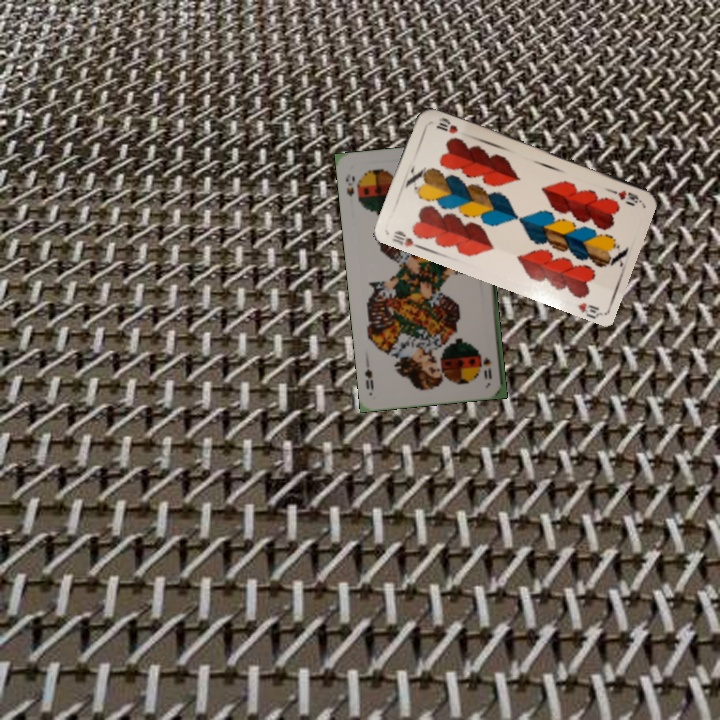H10: (387, 226, 424, 252), (603, 185, 643, 206)
SO: (341, 170, 358, 199), (479, 353, 494, 382)
